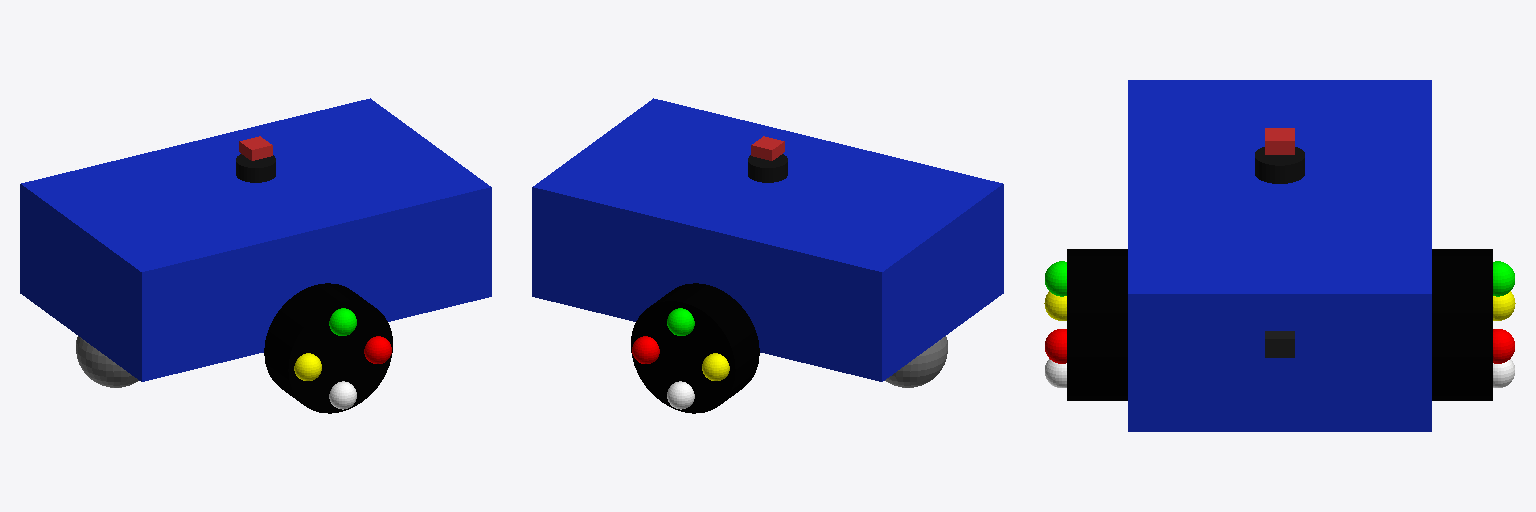
The robot description file, URDF, robot "my_robot":
<?xml version="1.0"?>

<robot name="my_robot">

    <!-- ========================================================= -->
    <!-- BASE LINK                                                  -->
    <!-- ========================================================= -->

    <link name="base_link">

        <visual>
            <geometry>
                <box size="1.0 0.6 0.3"/>
            </geometry>

            <material name="blue">
                <color rgba="0.1 0.2 0.8 1.0"/>
            </material>
        </visual>

        <collision>
            <geometry>
                <box size="0.6 0.4 0.2"/>
            </geometry>
        </collision>

        <inertial>
            <mass value="5.0"/>
            <origin xyz="0 0 0" rpy="0 0 0"/>
            <inertia
                ixx="0.12"
                ixy="0.0"
                ixz="0.0"
                iyy="0.18"
                iyz="0.0"
                izz="0.24"/>
        </inertial>

    </link>


    <!-- ========================================================= -->
    <!-- LEFT WHEEL                                                 -->
    <!-- ========================================================= -->

    <link name="left_wheel">

        <!-- Main wheel -->
        <!-- Cylinder is rotated so its axle is along Y -->

        <visual>
            <origin xyz="0 0 0" rpy="1.5708 0 0"/>

            <geometry>
                <cylinder radius="0.15" length="0.12"/>
            </geometry>

            <material name="left_wheel_black">
                <color rgba="0.02 0.02 0.02 1.0"/>
            </material>
        </visual>


        <!-- ===================================================== -->
        <!-- LEFT WHEEL MARKERS                                    -->
        <!-- ===================================================== -->

        <!-- Red marker -->
        <visual>
            <origin xyz="0.10 0.07 0"/>

            <geometry>
                <sphere radius="0.035"/>
            </geometry>

            <material name="left_red">
                <color rgba="1.0 0.0 0.0 1.0"/>
            </material>
        </visual>


        <!-- Yellow marker -->
        <visual>
            <origin xyz="-0.10 0.07 0"/>

            <geometry>
                <sphere radius="0.035"/>
            </geometry>

            <material name="left_yellow">
                <color rgba="1.0 1.0 0.0 1.0"/>
            </material>
        </visual>


        <!-- Green marker -->
        <visual>
            <origin xyz="0 0.07 0.10"/>

            <geometry>
                <sphere radius="0.035"/>
            </geometry>

            <material name="left_green">
                <color rgba="0.0 1.0 0.0 1.0"/>
            </material>
        </visual>


        <!-- White marker -->
        <visual>
            <origin xyz="0 0.07 -0.10"/>

            <geometry>
                <sphere radius="0.035"/>
            </geometry>

            <material name="left_white">
                <color rgba="1.0 1.0 1.0 1.0"/>
            </material>
        </visual>


        <!-- Wheel collision -->
        <collision>
            <origin xyz="0 0 0" rpy="1.5708 0 0"/>

            <geometry>
                <cylinder radius="0.15" length="0.12"/>
            </geometry>
        </collision>


        <inertial>
            <mass value="0.5"/>

            <origin xyz="0 0 0" rpy="0 0 0"/>

            <inertia
                ixx="0.0025"
                ixy="0.0"
                ixz="0.0"
                iyy="0.0025"
                iyz="0.0"
                izz="0.0025"/>
        </inertial>

    </link>


    <!-- ========================================================= -->
    <!-- LEFT WHEEL JOINT                                           -->
    <!-- ========================================================= -->

    <joint name="left_wheel_joint" type="continuous">

        <parent link="base_link"/>
        <child link="left_wheel"/>

        <!-- Left wheel -->
        <origin xyz="0 0.36 -0.15" rpy="0 0 0"/>

        <!-- Wheel axle -->
        <axis xyz="0 1 0"/>

    </joint>


    <!-- ========================================================= -->
    <!-- RIGHT WHEEL                                                -->
    <!-- ========================================================= -->

    <link name="right_wheel">

        <!-- Main wheel -->

        <visual>
            <origin xyz="0 0 0" rpy="1.5708 0 0"/>

            <geometry>
                <cylinder radius="0.15" length="0.12"/>
            </geometry>

            <material name="right_wheel_black">
                <color rgba="0.02 0.02 0.02 1.0"/>
            </material>
        </visual>


        <!-- ===================================================== -->
        <!-- RIGHT WHEEL MARKERS                                   -->
        <!-- ===================================================== -->

        <!-- Red marker -->
        <visual>
            <origin xyz="0.10 -0.07 0"/>

            <geometry>
                <sphere radius="0.035"/>
            </geometry>

            <material name="right_red">
                <color rgba="1.0 0.0 0.0 1.0"/>
            </material>
        </visual>


        <!-- Yellow marker -->
        <visual>
            <origin xyz="-0.10 -0.07 0"/>

            <geometry>
                <sphere radius="0.035"/>
            </geometry>

            <material name="right_yellow">
                <color rgba="1.0 1.0 0.0 1.0"/>
            </material>
        </visual>


        <!-- Green marker -->
        <visual>
            <origin xyz="0 -0.07 0.10"/>

            <geometry>
                <sphere radius="0.035"/>
            </geometry>

            <material name="right_green">
                <color rgba="0.0 1.0 0.0 1.0"/>
            </material>
        </visual>


        <!-- White marker -->
        <visual>
            <origin xyz="0 -0.07 -0.10"/>

            <geometry>
                <sphere radius="0.035"/>
            </geometry>

            <material name="right_white">
                <color rgba="1.0 1.0 1.0 1.0"/>
            </material>
        </visual>


        <!-- Wheel collision -->

        <collision>
            <origin xyz="0 0 0" rpy="1.5708 0 0"/>

            <geometry>
                <cylinder radius="0.15" length="0.12"/>
            </geometry>
        </collision>


        <inertial>
            <mass value="0.5"/>

            <origin xyz="0 0 0" rpy="0 0 0"/>

            <inertia
                ixx="0.0025"
                ixy="0.0"
                ixz="0.0"
                iyy="0.0025"
                iyz="0.0"
                izz="0.0025"/>
        </inertial>

    </link>


    <!-- ========================================================= -->
    <!-- RIGHT WHEEL JOINT                                          -->
    <!-- ========================================================= -->

    <joint name="right_wheel_joint" type="continuous">

        <parent link="base_link"/>
        <child link="right_wheel"/>

        <!-- Right wheel -->
        <origin xyz="0 -0.36 -0.15" rpy="0 0 0"/>

        <!-- Wheel axle -->
        <axis xyz="0 1 0"/>

    </joint>


    <!-- ========================================================= -->
    <!-- CASTER WHEEL                                               -->
    <!-- ========================================================= -->

    <link name="caster_wheel">

        <visual>

            <geometry>
                <sphere radius="0.10"/>
            </geometry>

            <material name="gray">
                <color rgba="0.5 0.5 0.5 1.0"/>
            </material>

        </visual>


        <collision>

            <geometry>
                <sphere radius="0.10"/>
            </geometry>

        </collision>


        <inertial>

            <mass value="0.5"/>

            <origin xyz="0 0 0" rpy="0 0 0"/>

            <inertia
                ixx="0.0025"
                ixy="0.0"
                ixz="0.0"
                iyy="0.0025"
                iyz="0.0"
                izz="0.0025"/>

        </inertial>

    </link>


    <!-- ========================================================= -->
    <!-- CASTER JOINT                                               -->
    <!-- ========================================================= -->

    <joint name="caster_joint" type="fixed">

        <parent link="base_link"/>
        <child link="caster_wheel"/>

        <origin xyz="-0.40 0 -0.20" rpy="0 0 0"/>

    </joint>


    <!-- ========================================================= -->
    <!-- GAZEBO / GZ SIM PLUGINS                                    -->
    <!-- ========================================================= -->

    <gazebo>

        <!-- ===================================================== -->
        <!-- DIFFERENTIAL DRIVE                                    -->
        <!-- ===================================================== -->

        <plugin
            filename="libignition-gazebo-diff-drive-system.so"
            name="ignition::gazebo::systems::DiffDrive">

            <left_joint>left_wheel_joint</left_joint>
            <right_joint>right_wheel_joint</right_joint>

            <wheel_separation>0.72</wheel_separation>
            <wheel_radius>0.15</wheel_radius>

            <topic>/model/my_robot/cmd_vel</topic>

            <odom_topic>/model/my_robot/odometrys</odom_topic>

            <frame_id>odom</frame_id>
            <child_frame_id>base_link</child_frame_id>

            <odom_publish_frequency>50</odom_publish_frequency>

        </plugin>


        <!-- ===================================================== -->
        <!-- JOINT STATE PUBLISHER                                 -->
        <!-- ===================================================== -->

        <plugin
            filename="libignition-gazebo-joint-state-publisher-system.so"
            name="ignition::gazebo::systems::JointStatePublisher">

            <joint_name>left_wheel_joint</joint_name>
            <joint_name>right_wheel_joint</joint_name>

        </plugin>

    </gazebo>
    
      <!-- ====================================== -->
  <!-- LIDAR LINK -->
  <!-- ====================================== -->

  <link name="lidar_link">

    <visual>
      <origin xyz="0 0 0" rpy="0 0 0"/>

      <geometry>
        <cylinder radius="0.05" length="0.04"/>
      </geometry>

      <material name="lidar_material">
        <color rgba="0.1 0.1 0.1 1.0"/>
      </material>
    </visual>

    <collision>
      <origin xyz="0 0 0" rpy="0 0 0"/>

      <geometry>
        <cylinder radius="0.05" length="0.04"/>
      </geometry>
    </collision>

    <inertial>
      <mass value="0.1"/>

      <inertia
        ixx="0.0001"
        ixy="0.0"
        ixz="0.0"
        iyy="0.0001"
        iyz="0.0"
        izz="0.0001"/>
    </inertial>

  </link>
<!-- ====================================== -->
<!-- IMU LINK -->
<!-- ====================================== -->

<link name="imu_link">

    <visual>
        <geometry>
            <box size="0.06 0.06 0.03"/>
        </geometry>

        <material name="imu_material">
            <color rgba="0.8 0.2 0.2 1.0"/>
        </material>
    </visual>

    <inertial>
        <mass value="0.05"/>
        <inertia
            ixx="0.0001"
            ixy="0.0"
            ixz="0.0"
            iyy="0.0001"
            iyz="0.0"
            izz="0.0001"/>
    </inertial>

</link>

<!-- ====================================== -->

  <!-- RGB CAMERA LINK -->

  <!-- ====================================== -->

  <link name="camera_link">

<visual>
  <geometry>
    <box size="0.08 0.06 0.04"/>
  </geometry>

  <material name="camera_material">
    <color rgba="0.15 0.15 0.15 1.0"/>
  </material>
</visual>

<collision>
  <geometry>
    <box size="0.08 0.06 0.04"/>
  </geometry>
</collision>

<inertial>
  <mass value="0.05"/>
  <inertia
    ixx="0.0001"
    ixy="0.0"
    ixz="0.0"
    iyy="0.0001"
    iyz="0.0"
    izz="0.0001"/>
</inertial>

  </link>

  <!-- ====================================== -->
  <!-- CAMERA FIXED JOINT -->

  <!-- ====================================== -->

<joint name="camera_joint" type="fixed">

<parent link="base_link"/>
<child link="camera_link"/>

<!-- Front of robot, facing +X -->
<origin xyz="0.50 0 0.05" rpy="0 0 0"/>

  </joint>
<!-- ====================================== -->
<!-- IMU FIXED JOINT -->
<!-- ====================================== -->

<joint name="imu_joint" type="fixed">

    <parent link="base_link"/>
    <child link="imu_link"/>

    <origin xyz="0 0 0.25" rpy="0 0 0"/>

</joint>
  
  <!-- ====================================== -->
  <!-- LIDAR FIXED JOINT -->
  <!-- ====================================== -->

  <joint name="lidar_joint" type="fixed">

    <parent link="base_link"/>
    <child link="lidar_link"/>

    <origin xyz="0 0 0.20" rpy="0 0 0"/>

  </joint>
  <!-- LIDAR SENSOR CONFIGURATION -->
<gazebo reference="lidar_link">

  <sensor name="lidar_sensor" type="gpu_lidar">
    <pose>0 0 0 0 0 0</pose>

    <topic>scan</topic>
    <update_rate>10</update_rate>

    <lidar>
      <scan>
        <horizontal>
          <samples>360</samples>
          <resolution>1</resolution>
          <min_angle>-3.14159</min_angle>
          <max_angle>3.14159</max_angle>
        </horizontal>
      </scan>

      <range>
        <min>0.12</min>
        <max>8.0</max>
        <resolution>0.01</resolution>
      </range>
    </lidar>

    <always_on>true</always_on>
    <visualize>true</visualize>

  </sensor>

</gazebo>
<!-- ====================================== -->
<!-- IMU SENSOR CONFIGURATION -->
<!-- ====================================== -->

<gazebo reference="imu_link">

    <sensor name="imu_sensor" type="imu">

        <always_on>true</always_on>

        <update_rate>100</update_rate>

        <visualize>false</visualize>

        <topic>/imu</topic>

    </sensor>

</gazebo>

  <!-- RGB CAMERA SENSOR -->

  <!-- ====================================== -->

<gazebo reference="camera_link">

<sensor name="rgb_camera" type="camera">

  <pose>0 0 0 0 0 0</pose>

  <always_on>true</always_on>
  <update_rate>5</update_rate>
  <visualize>true</visualize>

  <topic>/camera/image_raw</topic>

  <camera>

    <horizontal_fov>1.047</horizontal_fov>

    <image>
      <width>320</width>
      <height>240</height>
      <format>R8G8B8</format>
    </image>

    <clip>
      <near>0.1</near>
      <far>20.0</far>
    </clip>

  </camera>

</sensor>
<!-- DEPTH CAMERA -->

<sensor name="depth_camera" type="depth_camera">

    <pose>0 0 0 0 0 0</pose>

    <always_on>true</always_on>

    <update_rate>5</update_rate>

    <visualize>true</visualize>

    <topic>/camera/depth/image_raw</topic>

    <camera>

        <horizontal_fov>1.047</horizontal_fov>

        <image>
            <width>320</width>
            <height>240</height>
            <format>R_FLOAT32</format>
        </image>

        <clip>
            <near>0.1</near>
            <far>8.0</far>
        </clip>

    </camera>

</sensor>

</gazebo> 
</robot>

--- What the picture shows (computed from the rendered views, not written in the file) ---
3 views of the same robot in one strip: view 1: azimuth 30°, elevation 25°; view 2: azimuth 150°, elevation 25°; view 3: azimuth 270°, elevation 25° (orthographic).
Robot: my_robot — 7 links, 6 joints (2 continuous, 4 fixed); root link base_link; default pose: all joints at 0.
Links seen in each view (by area): view 1: base_link, right_wheel, caster_wheel, lidar_link, imu_link; view 2: base_link, left_wheel, caster_wheel, lidar_link, imu_link; view 3: base_link, left_wheel, right_wheel, lidar_link, imu_link, camera_link.
Boxes of the visible links, bbox=[...] form: base_link: bbox=[20, 98, 491, 381]; right_wheel: bbox=[264, 283, 392, 413]; caster_wheel: bbox=[76, 336, 138, 387]; lidar_link: bbox=[236, 154, 275, 182]; imu_link: bbox=[239, 136, 272, 160]; base_link: bbox=[532, 98, 1003, 381]; left_wheel: bbox=[631, 283, 759, 413]; caster_wheel: bbox=[885, 336, 947, 387]; lidar_link: bbox=[748, 154, 787, 182]; imu_link: bbox=[751, 136, 784, 160]; base_link: bbox=[1128, 80, 1431, 431]; left_wheel: bbox=[1432, 249, 1515, 400]; right_wheel: bbox=[1044, 249, 1127, 400]; lidar_link: bbox=[1255, 147, 1304, 183]; imu_link: bbox=[1265, 128, 1294, 154]; camera_link: bbox=[1265, 331, 1294, 357].
Bounding box of the posed robot: 1.04 × 0.93 × 0.565 m (x, y, z).
Geometry: primitives only (box / cylinder / sphere), no mesh files.
